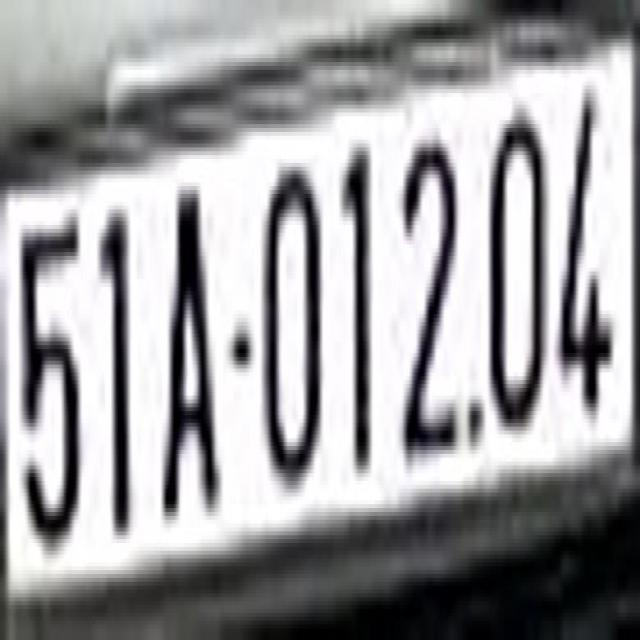0: (260, 144, 324, 492), (486, 70, 544, 438)
1: (99, 186, 132, 555), (339, 132, 372, 477)
2: (400, 132, 462, 466)
4: (558, 89, 616, 419)
5: (17, 210, 83, 554)
A: (158, 175, 224, 512)
